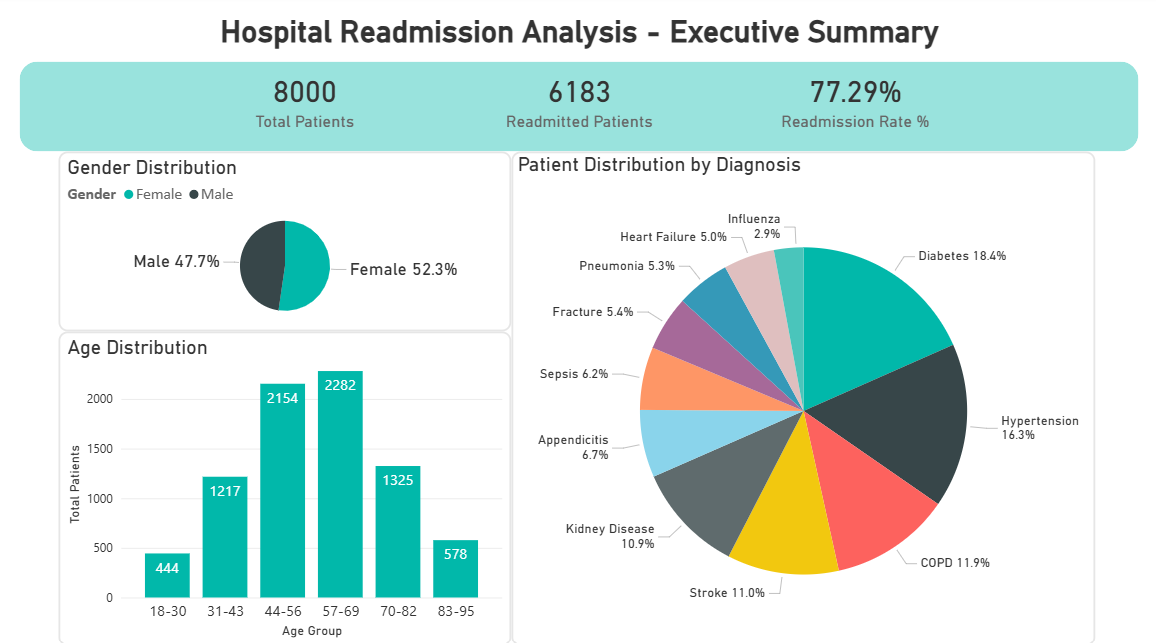

The page's visual inventory and layout, read from the dashboard file:
{"tool":"powerbi","page":{"name":"Summary","canvas":[1280,720],"ordinal":0},"visuals":[{"type":"shape","box":[21.5,74.5,1235.7,99.4],"z":0},{"type":"card","fields":{"Values":["ascend_quick_project hospital_data.Total Patients"]},"box":[200,73.3,271.7,83.3],"z":1000},{"type":"card","fields":{"Values":["ascend_quick_project hospital_data.Readmitted Patients"]},"box":[503.3,73.3,271.7,83.3],"z":2000},{"type":"card","fields":{"Values":["ascend_quick_project hospital_data.Readmission Rate %"]},"box":[808.3,73.3,271.7,83.3],"z":3000},{"type":"pieChart","title":"Gender Distribution","fields":{"Category":["ascend_quick_project hospital_data.gender"],"Y":["ascend_quick_project hospital_data.Total Patients"]},"box":[64.6,173.9,500.3,198.8],"z":4000},{"type":"clusteredColumnChart","title":"Age Distribution","fields":{"Category":["ascend_quick_project hospital_data.Age Group"],"Y":["ascend_quick_project hospital_data.Total Patients"]},"box":[64.6,372.7,500.3,347.9],"z":5000},{"type":"pieChart","title":"Patient Distribution by Diagnosis","fields":{"Category":["ascend_quick_project hospital_data.primary_diagnosis"],"Y":["ascend_quick_project hospital_data.Total Patients"]},"box":[564.9,173.9,644.4,546.6],"z":6000},{"type":"textbox","box":[200.4,16.6,879.6,58],"z":7000}]}

Visuals, with their boxes in screenshot pixels (x1, y1, x2, y2), scaled from the page's 1280x720 canvas onto the 1156x643 screenshot:
shape: left=19, top=67, right=1135, bottom=155
card - ascend_quick_project hospital_data.Total Patients: left=181, top=65, right=426, bottom=140
card - ascend_quick_project hospital_data.Readmitted Patients: left=455, top=65, right=700, bottom=140
card - ascend_quick_project hospital_data.Readmission Rate %: left=730, top=65, right=975, bottom=140
"Gender Distribution" pieChart: left=58, top=155, right=510, bottom=333
"Age Distribution" clusteredColumnChart: left=58, top=333, right=510, bottom=642
"Patient Distribution by Diagnosis" pieChart: left=510, top=155, right=1092, bottom=642
textbox: left=181, top=15, right=975, bottom=67
